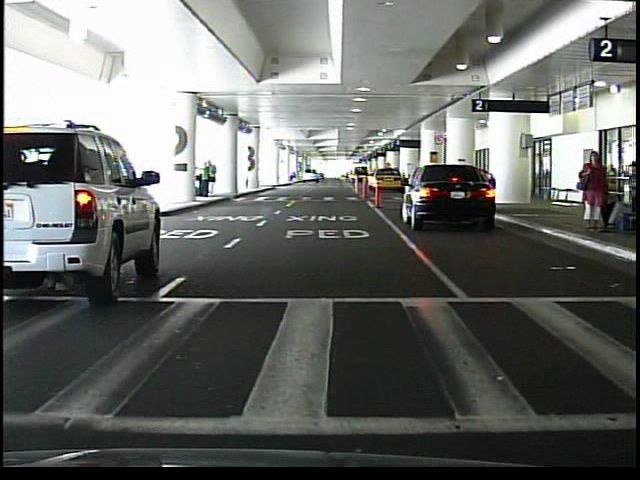person: (576, 151, 610, 230), (586, 154, 598, 206), (198, 161, 211, 199), (208, 160, 218, 197)
